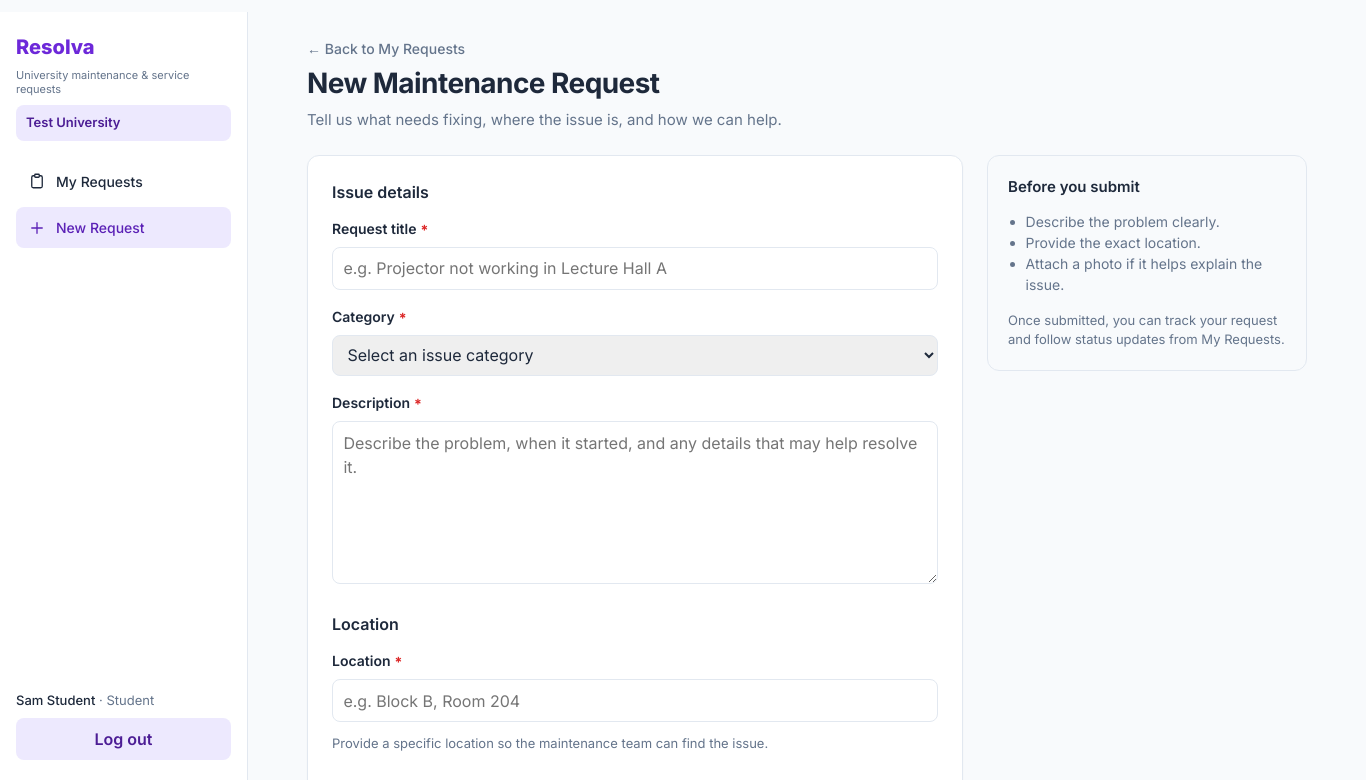
Test: CreateRequestPage › submits a new request and disables the button while sending
The width and height of the screenshot is (1366, 780).
Type "Broken projector" into the field labelled "Request title *".
click(635, 268); type("Broken projector")  # box [332,247,938,290]
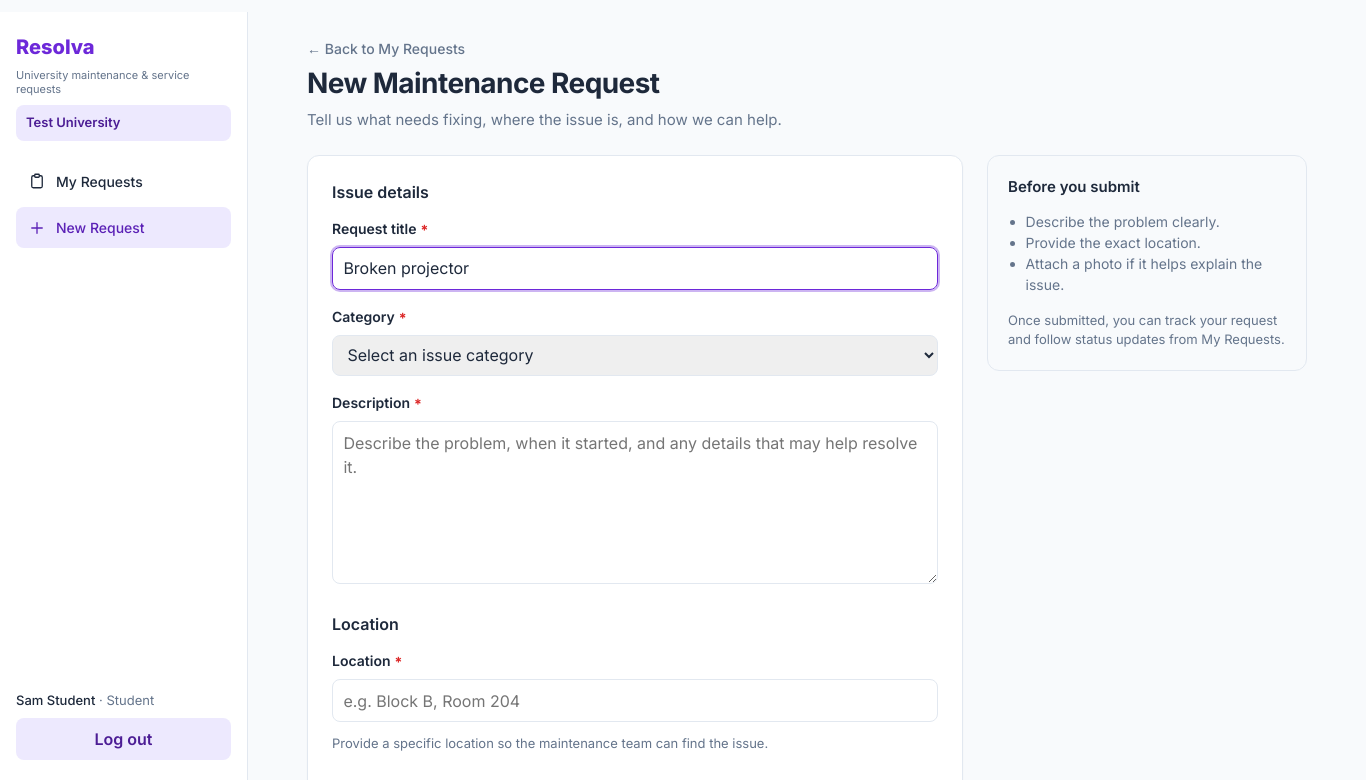
Select "Electrical" in the dropdown labelled "Category *" at [635, 356], box [332,335,938,376]
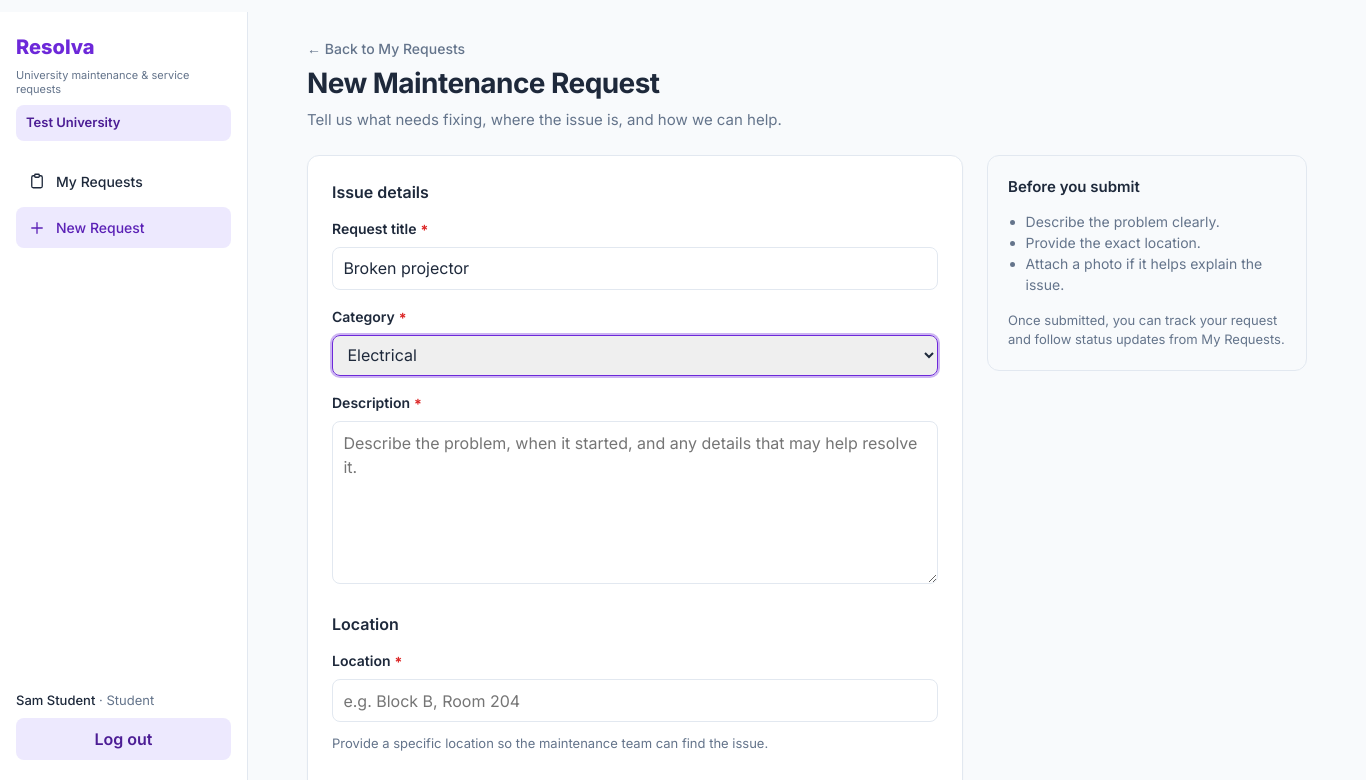
Type "The projector in the lecture hall will not turn on." into the text box labelled "Description *".
click(635, 502); type("The projector in the lecture hall will not turn on.")  # box [332,421,938,584]
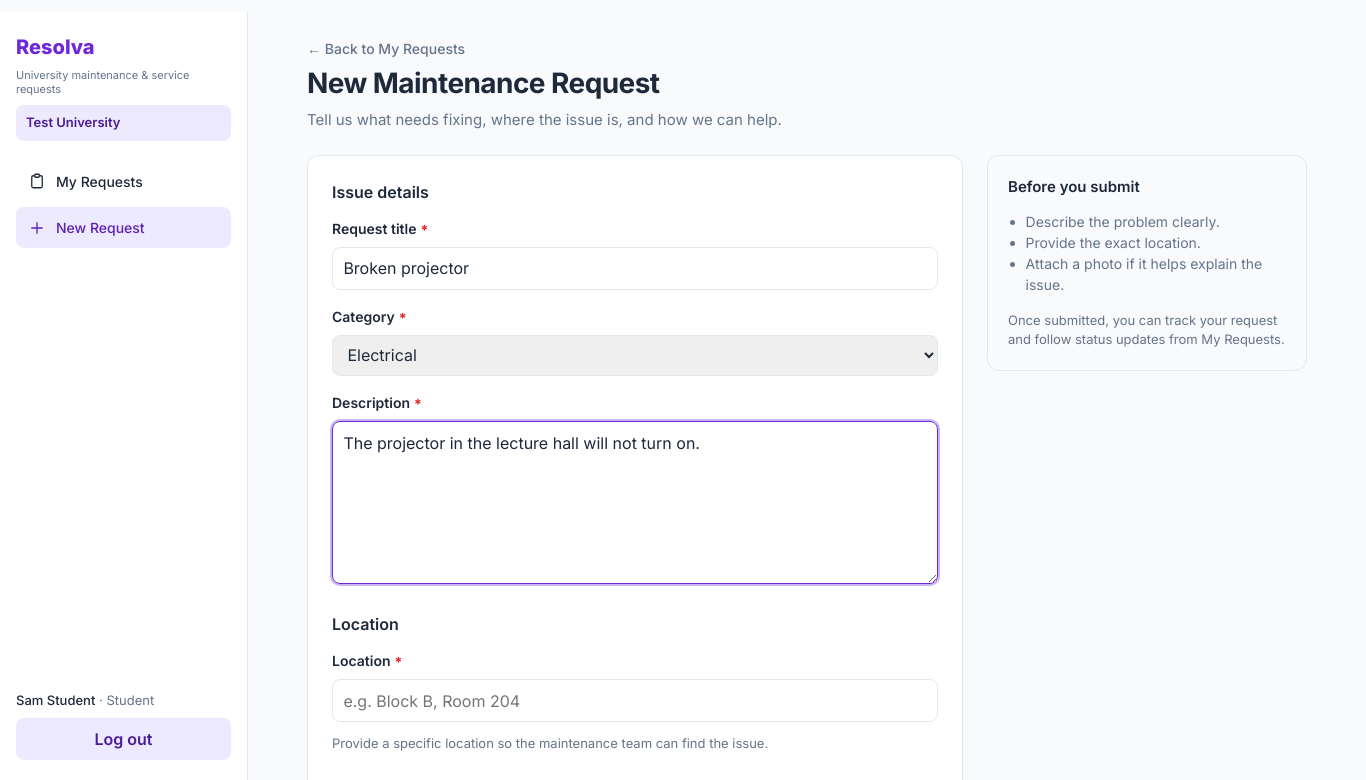
Type "Block B, Room 204" into the field labelled "Location *".
click(635, 701); type("Block B, Room 204")  # box [332,679,938,722]
(page scrolled)
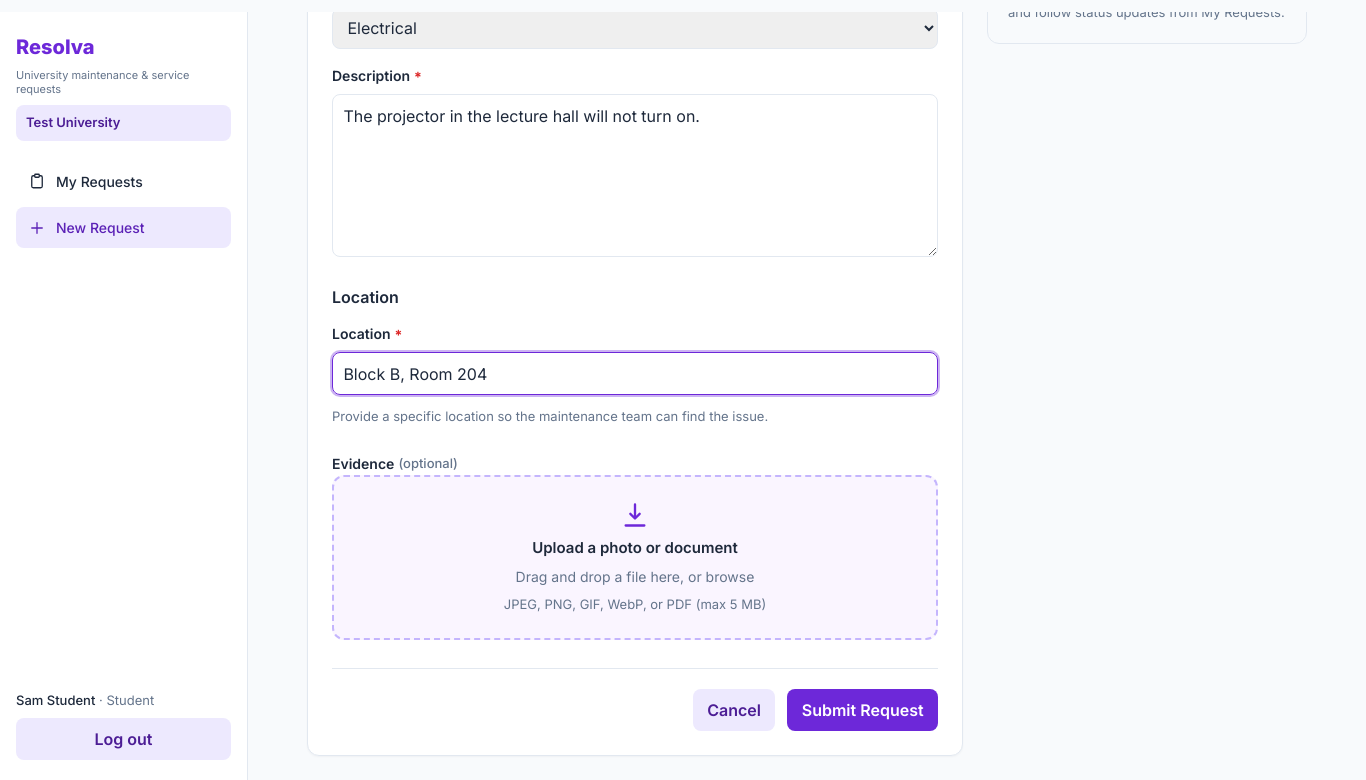
Click the button "Submit Request".
click(863, 710)  # box [787,689,938,731]
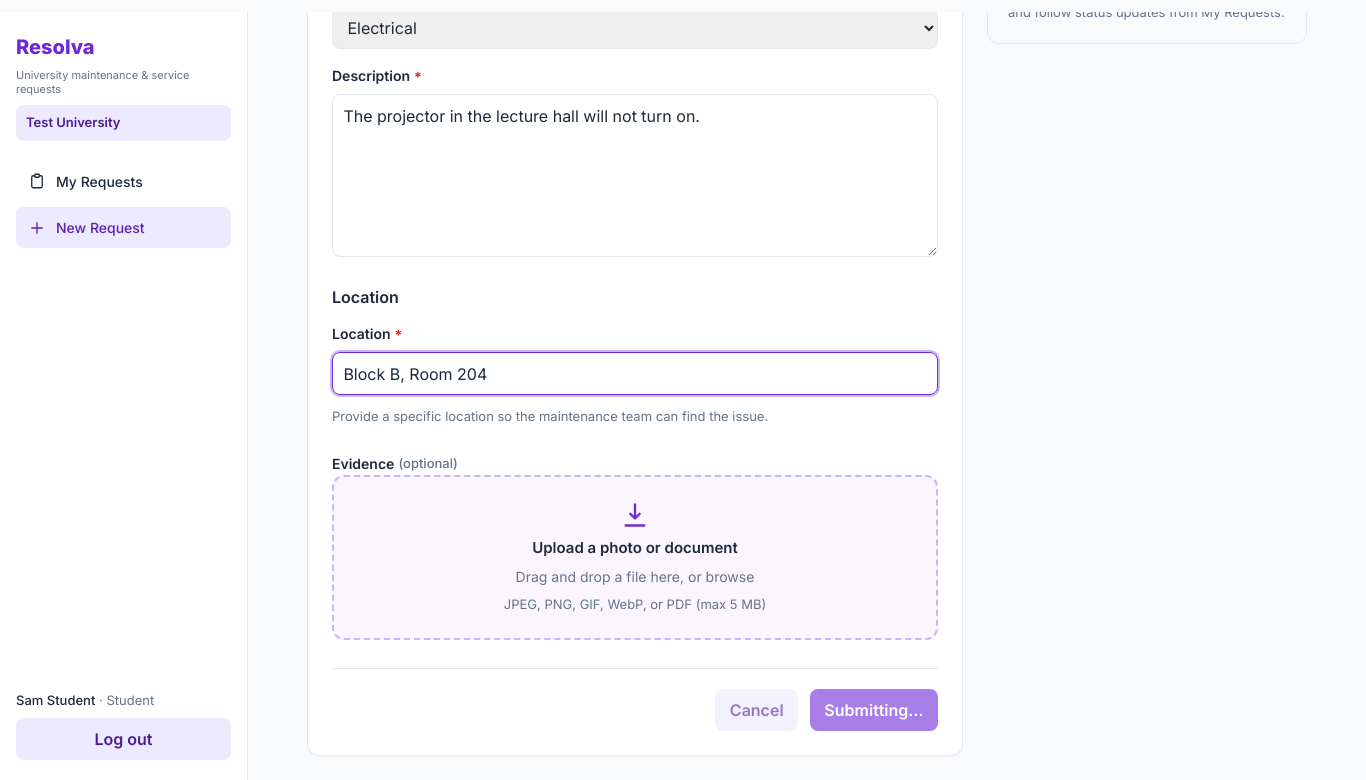
Expected: the button "Submitting…" is disabled, [810,689,938,731]
